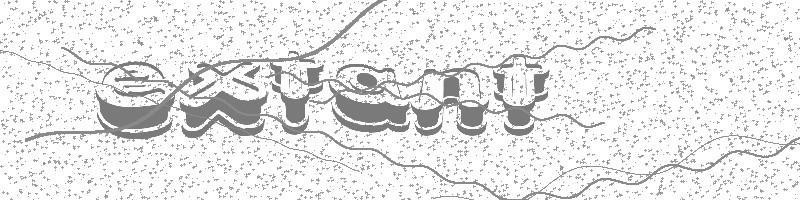a: (328, 63, 411, 134)
e: (94, 59, 174, 140)
n: (412, 67, 488, 138)
t: (492, 55, 550, 137), (270, 50, 324, 137)
x: (179, 61, 269, 139)
